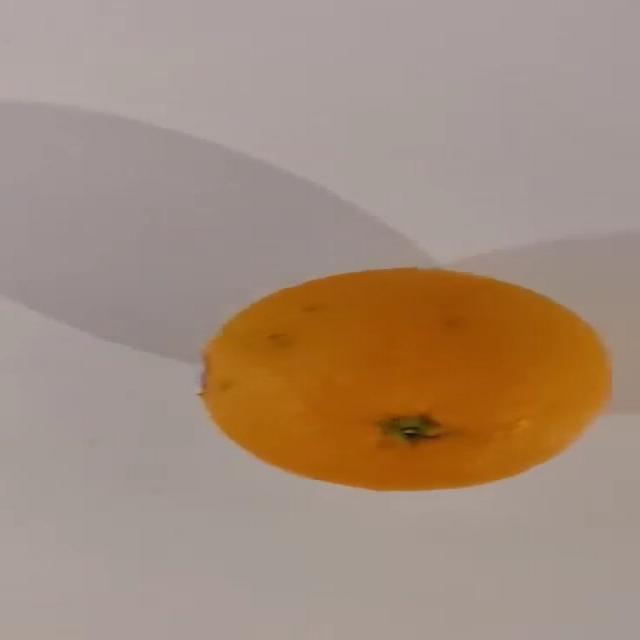Orange: (197, 262, 618, 500)
